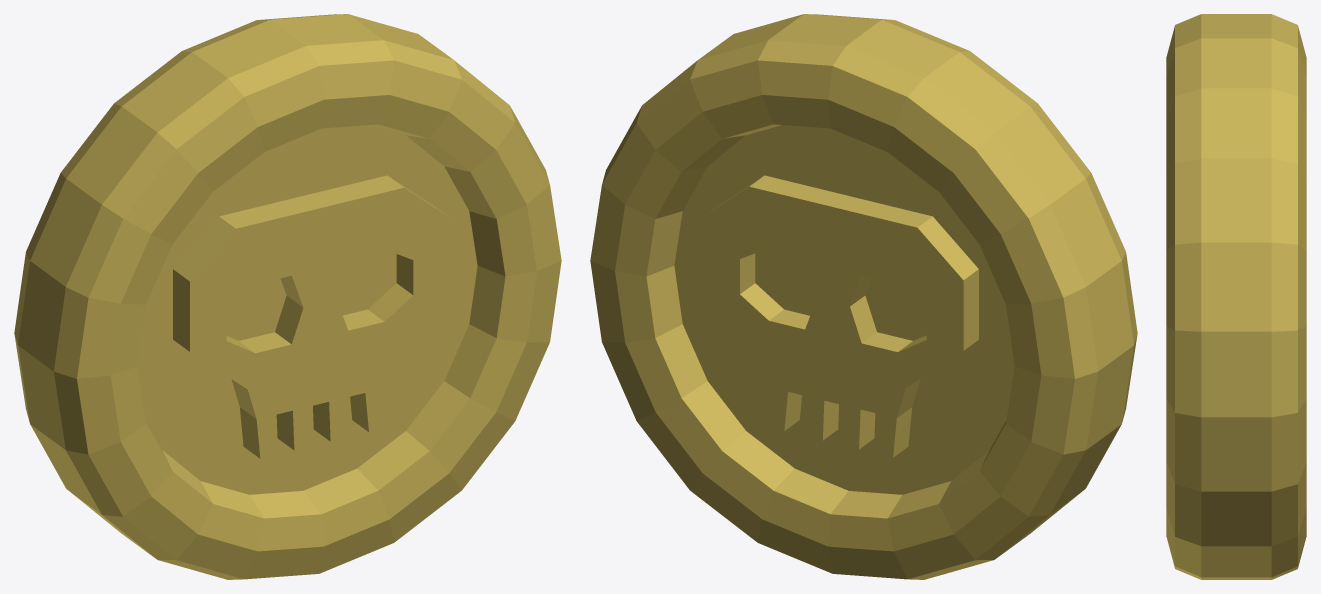
The model's file is coin_skull.glb.
3 views of the same model, side by side, from view 1: azimuth 30°, elevation 25°; view 2: azimuth 150°, elevation 25°; view 3: azimuth 270°, elevation 25° (orthographic). The views are drawn at different scales.
Visible parts, largest first — view 1: Coin_Skull; view 2: Coin_Skull; view 3: Coin_Skull.
Boxes of the visible parts, <box> form: Coin_Skull: <box>14,14,561,579</box>; Coin_Skull: <box>590,14,1137,579</box>; Coin_Skull: <box>1166,14,1306,579</box>.
Size of the model in its own units: 0.7367 by 0.7377 by 0.1812.
